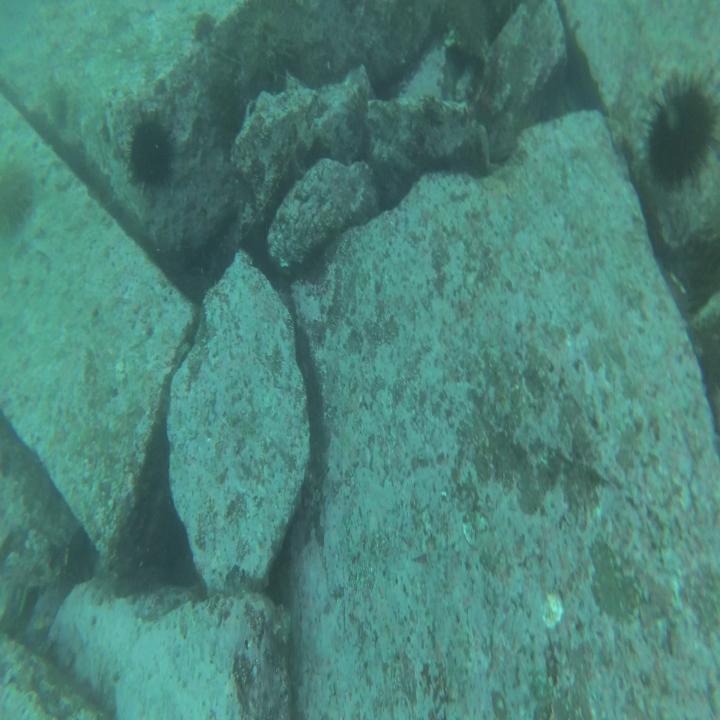echinus: (638, 71, 716, 183), (119, 109, 180, 185), (1, 162, 30, 230)
